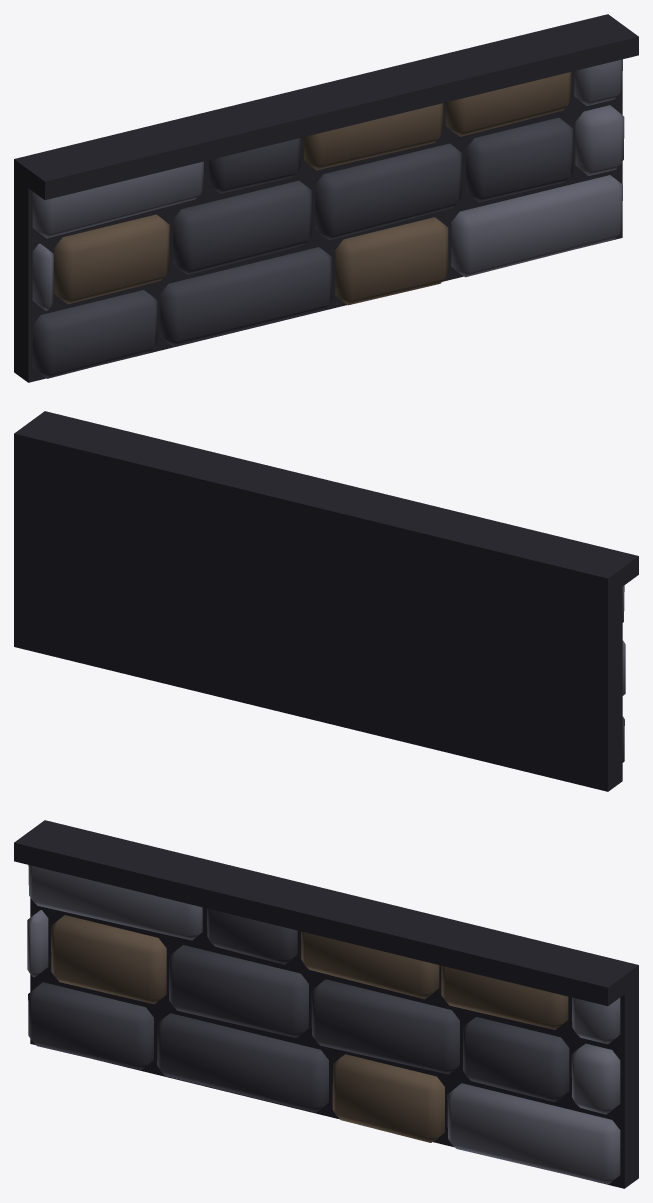
The model's file is kit_timber_foot.glb.
3 renders of one model, top to bottom at view 1: azimuth 30°, elevation 25°; view 2: azimuth 150°, elevation 25°; view 3: azimuth 330°, elevation 25°, orthographic.
Visible parts, largest first — view 1: kit_timber_foot; view 2: kit_timber_foot; view 3: kit_timber_foot.
Part boxes in pixels (x1,y1,x2,y2): kit_timber_foot: [14, 14, 638, 382]; kit_timber_foot: [14, 411, 638, 791]; kit_timber_foot: [14, 820, 638, 1188].
Bounding box in the file's own units: 1 × 0.343 × 0.09.
